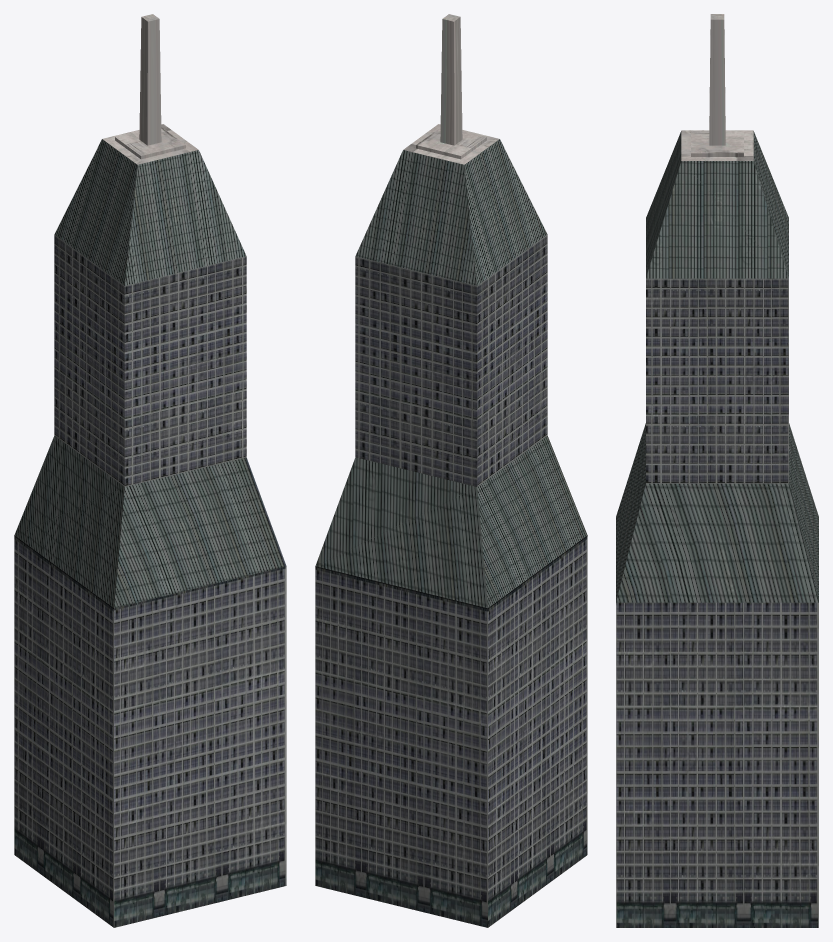
Rendered from skyscraper2.gltf.
3 renders of one model, left to right at view 1: azimuth 30°, elevation 25°; view 2: azimuth 150°, elevation 25°; view 3: azimuth 270°, elevation 25°, orthographic.
Parts seen in each view (by area): view 1: Cube; view 2: Cube; view 3: Cube.
Part boxes in pixels (x1=…): Cube: x1=14, y1=14, x2=286, y2=927; Cube: x1=315, y1=14, x2=587, y2=927; Cube: x1=616, y1=14, x2=818, y2=927.
Bounding box in the file's own units: 63.81 × 301 × 63.81.
Materials: 1 (1 with a texture image).
